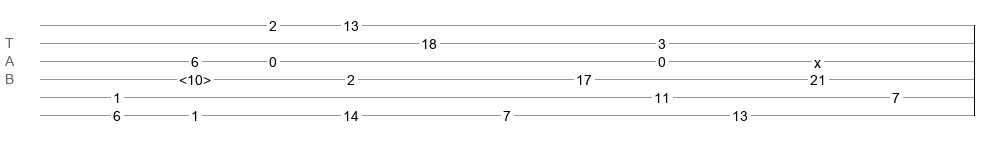0: (269, 54, 277, 64), (658, 54, 666, 64)
1: (113, 90, 121, 100), (191, 108, 199, 118)
11: (654, 90, 670, 100)
13: (343, 18, 359, 28), (732, 108, 748, 118)
14: (343, 108, 359, 118)
17: (576, 72, 592, 82)
18: (421, 36, 437, 46)
2: (269, 18, 277, 28), (347, 72, 355, 82)
21: (810, 72, 826, 82)
3: (658, 36, 666, 46)
6: (113, 108, 121, 118), (191, 54, 199, 64)
7: (503, 108, 511, 118), (892, 90, 900, 100)
harmonic: (179, 72, 211, 82)
x: (814, 55, 821, 63)
